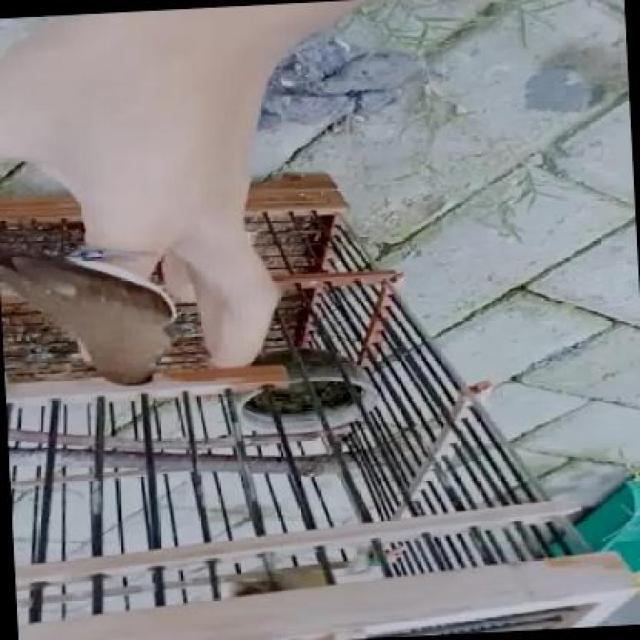Bird: (0, 214, 176, 420)
